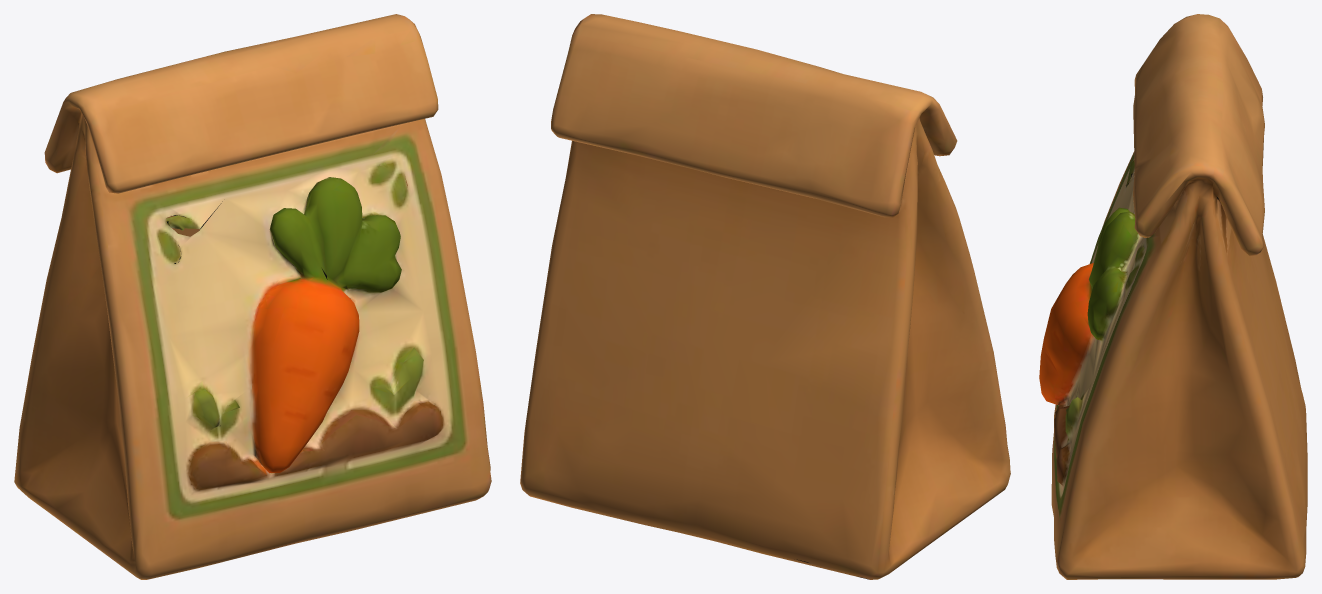
The picture shows the model from 3 angles, left to right: view 1: azimuth 30°, elevation 25°; view 2: azimuth 150°, elevation 25°; view 3: azimuth 270°, elevation 25°; orthographic projection. The views are drawn at different scales.
Visible parts, largest first — view 1: seed-carrot; view 2: seed-carrot; view 3: seed-carrot.
Boxes of the visible parts, bbox=[...] form: seed-carrot: bbox=[14, 14, 491, 579]; seed-carrot: bbox=[520, 14, 1010, 579]; seed-carrot: bbox=[1039, 14, 1307, 579].
Size of the model in its own units: 0.1275 by 0.15 by 0.0874.
1 material, 1 textured.
